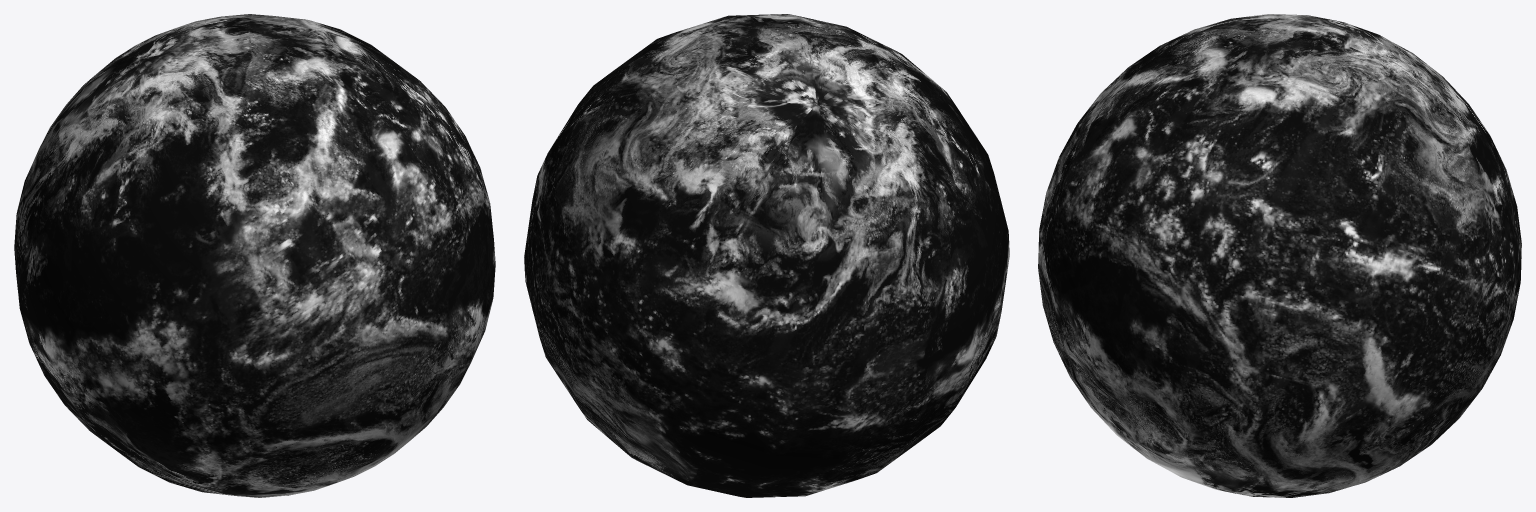
Rendered from test_aarde_2.fbx.
3 views of the same model, side by side, from view 1: azimuth 30°, elevation 25°; view 2: azimuth 150°, elevation 25°; view 3: azimuth 270°, elevation 25° (orthographic).
Parts seen in each view (by area): view 1: pSphere4; view 2: pSphere4; view 3: pSphere4.
Boxes of the visible parts, x1,y1,x2,y2 form: pSphere4: [14, 14, 495, 497]; pSphere4: [524, 14, 1009, 497]; pSphere4: [1038, 14, 1521, 497].
Size of the model in its own units: 13.07 by 13.13 by 13.11.
